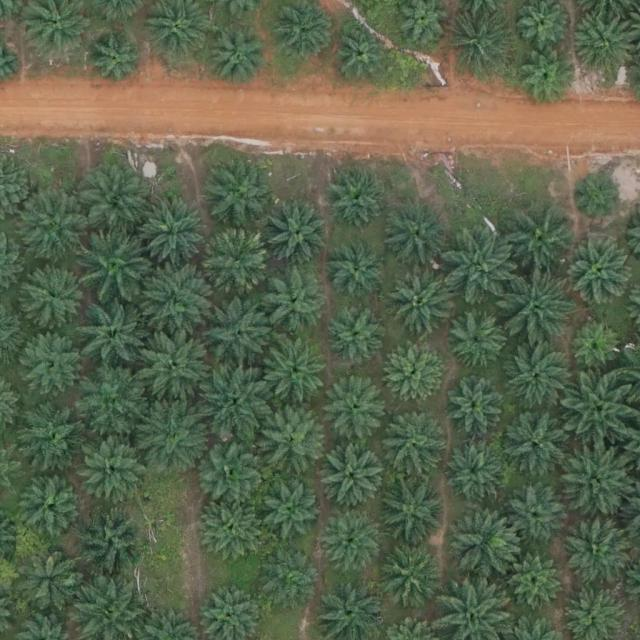Healthy: (562, 446, 633, 517), (199, 362, 270, 433), (204, 158, 275, 229), (140, 198, 211, 269), (140, 328, 211, 399), (136, 402, 207, 473), (77, 366, 148, 437), (449, 507, 519, 578), (444, 232, 515, 302), (384, 201, 454, 272), (564, 517, 634, 588), (564, 374, 634, 445), (566, 236, 636, 307), (507, 204, 577, 275), (498, 267, 568, 338), (499, 414, 569, 485), (257, 270, 327, 341), (256, 402, 327, 472), (204, 298, 274, 369), (82, 440, 152, 511), (82, 229, 152, 300), (81, 167, 151, 238), (22, 191, 92, 262), (18, 400, 88, 471), (138, 269, 208, 339), (78, 300, 148, 370), (74, 505, 144, 575), (447, 9, 517, 79), (384, 482, 447, 545), (379, 546, 442, 609), (322, 444, 385, 507), (504, 486, 567, 549), (265, 205, 328, 268), (264, 343, 327, 406), (259, 548, 322, 611), (202, 497, 265, 560), (22, 332, 85, 395), (20, 549, 83, 612), (207, 28, 270, 91), (443, 439, 505, 502), (382, 345, 445, 407), (383, 411, 445, 474), (318, 511, 380, 574), (325, 305, 387, 368), (326, 169, 388, 232), (503, 341, 565, 404), (200, 441, 262, 504), (23, 263, 85, 326), (23, 479, 85, 542), (515, 49, 578, 111), (390, 275, 452, 337), (327, 378, 389, 440), (327, 240, 389, 302), (260, 480, 322, 542), (508, 558, 563, 613), (444, 381, 499, 436), (90, 37, 145, 92), (335, 26, 389, 82), (450, 311, 504, 366), (572, 322, 619, 370)
Small: (577, 176, 624, 223)
Yellow: (202, 229, 272, 299)
